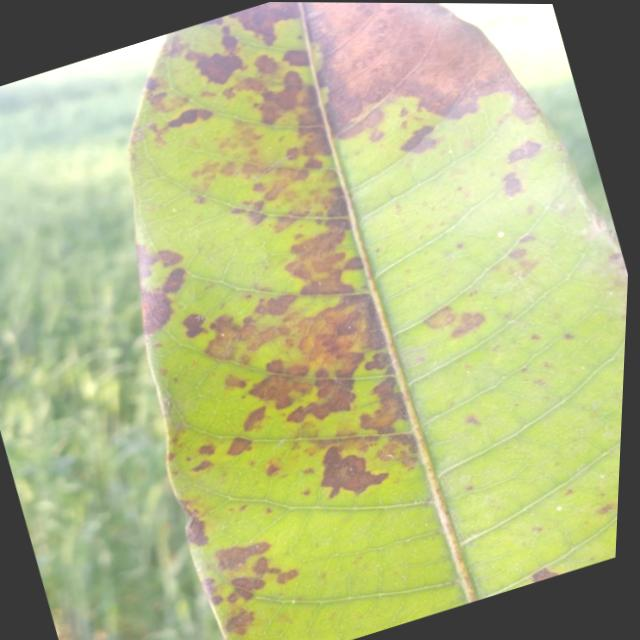Anthracnose: (236, 240, 419, 426), (177, 22, 334, 210), (200, 519, 314, 634)
Bacterial Cancer: (288, 2, 527, 166)
